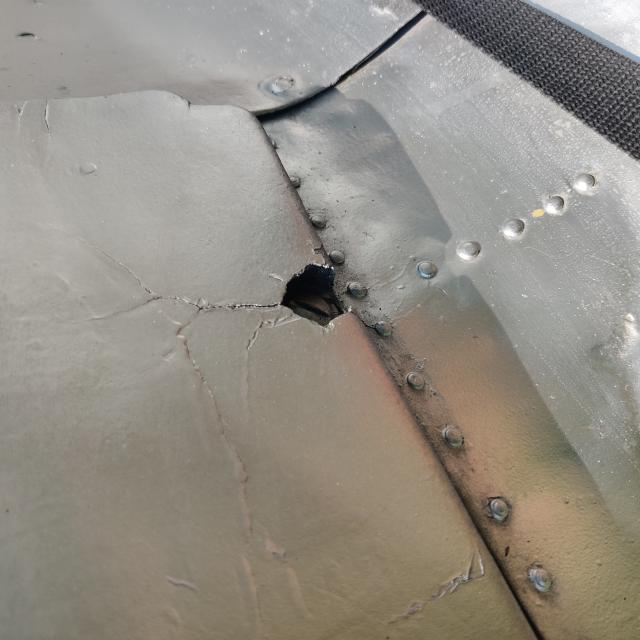crack: (235, 83, 418, 365)
